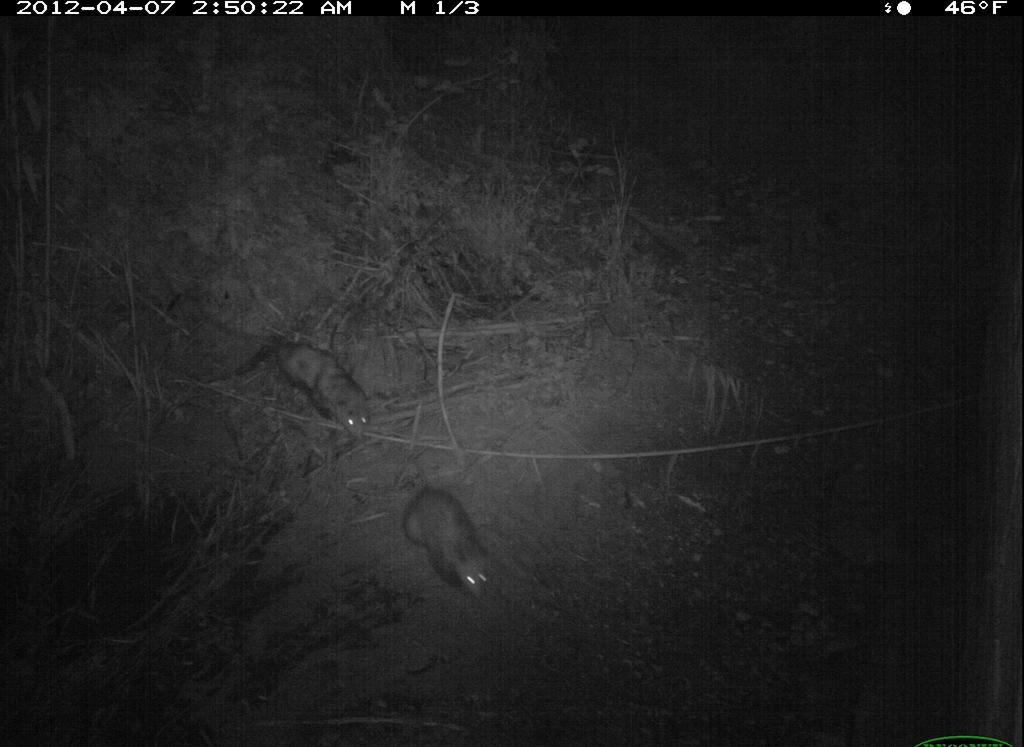opossum: (236, 328, 377, 447), (397, 477, 502, 607)
